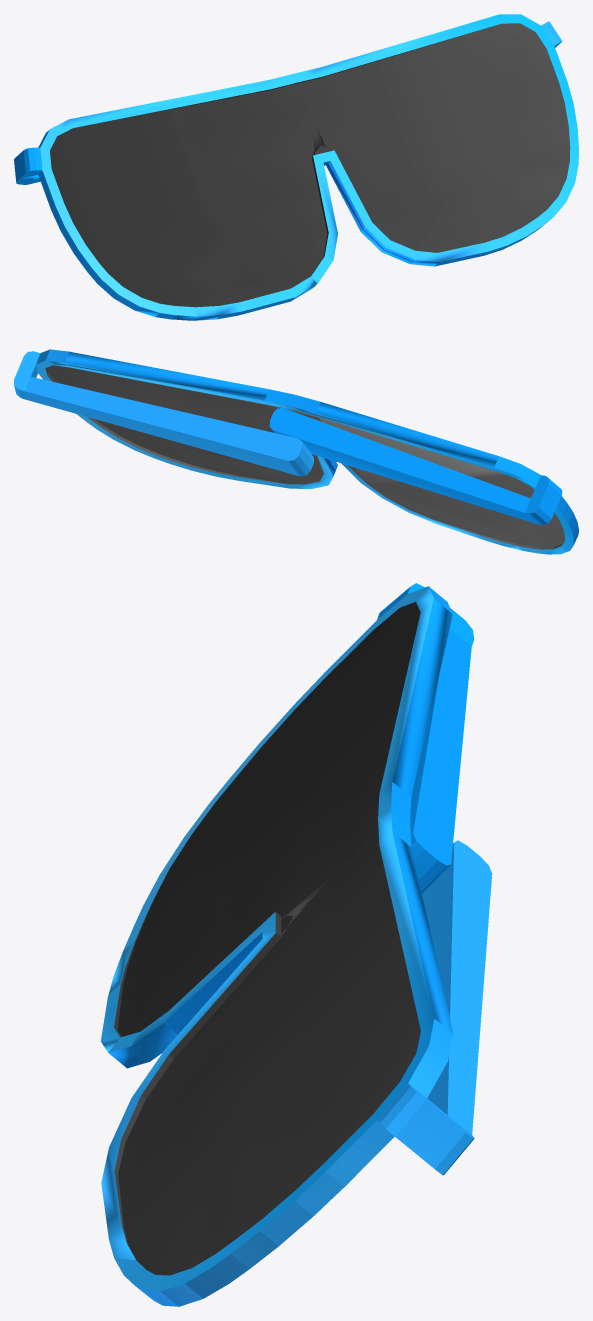
The model's file is BeachSunglassesBlue.glb.
3 views of the same model, one above another, from view 1: azimuth 30°, elevation 25°; view 2: azimuth 150°, elevation 25°; view 3: azimuth 270°, elevation 25° (orthographic). The views are drawn at different scales.
Parts seen in each view (by area): view 1: BeachSunglassesBlue; view 2: BeachSunglassesBlue; view 3: BeachSunglassesBlue.
Boxes of the visible parts, x1,y1,x2,y2 form: BeachSunglassesBlue: [14, 14, 578, 320]; BeachSunglassesBlue: [14, 349, 578, 554]; BeachSunglassesBlue: [100, 583, 492, 1306].
Size of the model in its own units: 0.2291 by 0.0671 by 0.0725.
Materials: 1 (1 with a texture image).
